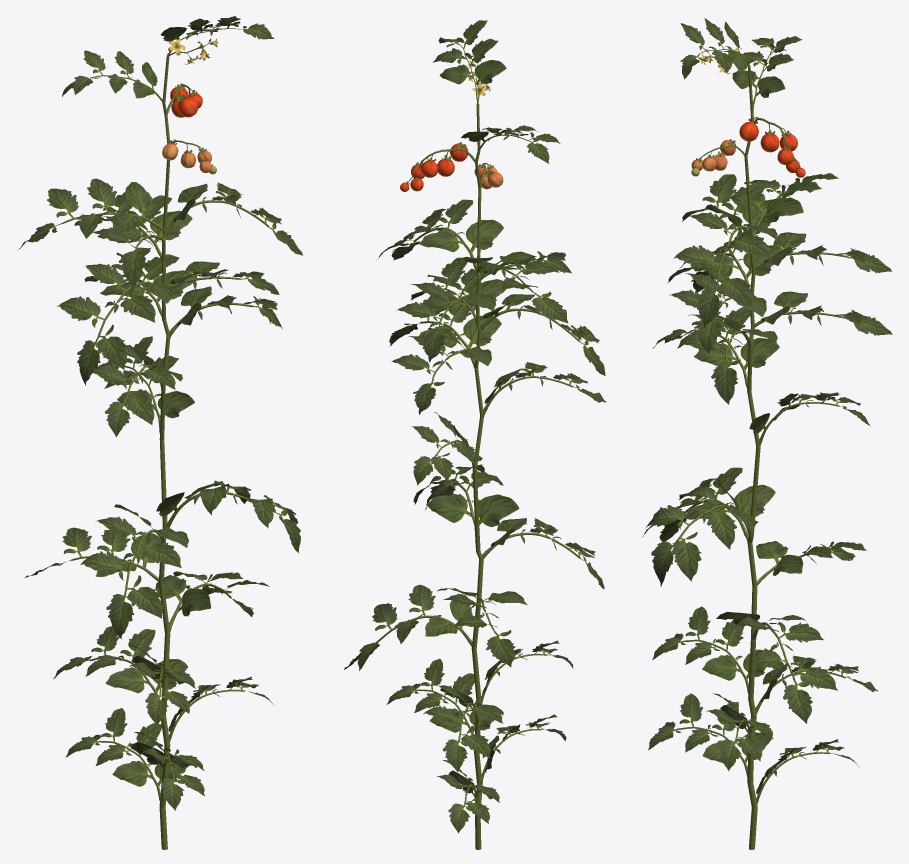
File: apple_tree.dae
3 renders of one model, left to right at view 1: azimuth 30°, elevation 25°; view 2: azimuth 150°, elevation 25°; view 3: azimuth 270°, elevation 25°, orthographic. The views are drawn at different scales.
Visible parts, largest first — view 1: Leaf2, Leaf1, Branch1, Fruit3, Fruit1; view 2: Leaf2, Leaf1, Branch1, Fruit1; view 3: Leaf2, Leaf1, Branch1, Fruit1, Fruit3.
Boxes of the visible parts, x1,y1,x2,y2 form: Leaf2: (18,16,303,810); Leaf1: (95,27,223,786); Branch1: (61,28,275,849); Fruit3: (162,143,211,172); Fruit1: (170,86,202,117); Leaf2: (344,20,606,833); Leaf1: (419,60,538,799); Branch1: (376,44,580,849); Fruit1: (400,143,468,191); Leaf2: (642,18,892,776); Leaf1: (684,21,808,794); Branch1: (676,49,849,849); Fruit1: (739,122,805,177); Fruit3: (691,140,735,171).
Size of the model in its own units: 0.8134 by 0.7424 by 2.69.
